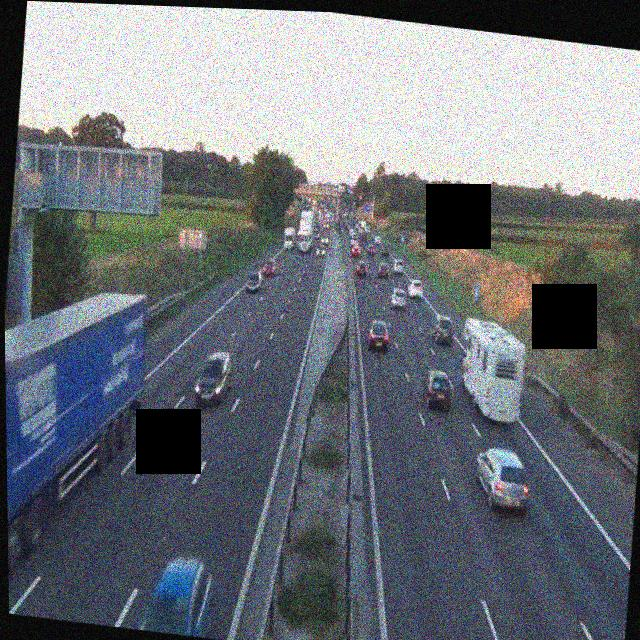car: (136, 550, 216, 638), (472, 445, 532, 512), (192, 346, 234, 409), (420, 368, 454, 412), (430, 314, 456, 347), (367, 317, 391, 352), (244, 268, 263, 292), (389, 288, 406, 309), (262, 257, 278, 279), (407, 278, 424, 298), (377, 260, 390, 278), (393, 259, 406, 275), (356, 258, 368, 275), (315, 244, 326, 257), (351, 243, 361, 257), (380, 244, 389, 257)
truck: (4, 277, 155, 613), (455, 316, 531, 424), (297, 208, 316, 249)
